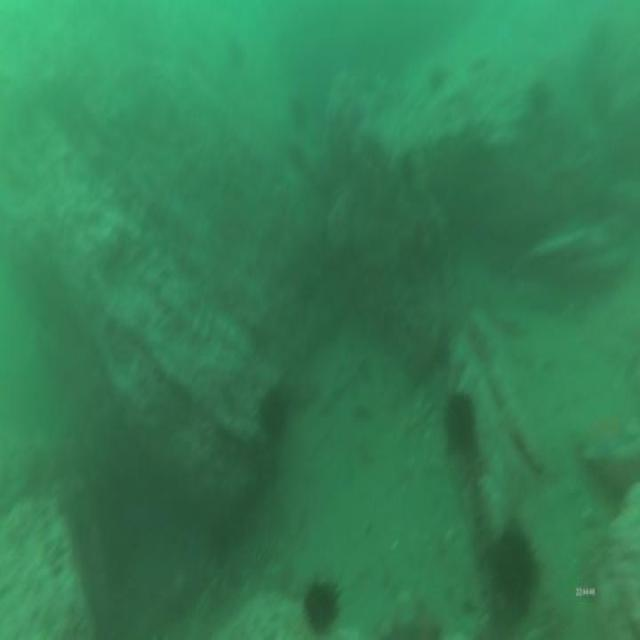echinus: (492, 518, 542, 632), (442, 386, 481, 464), (304, 569, 345, 640), (255, 378, 293, 444), (521, 76, 552, 123), (225, 27, 247, 74), (286, 92, 308, 134), (427, 57, 452, 93)
